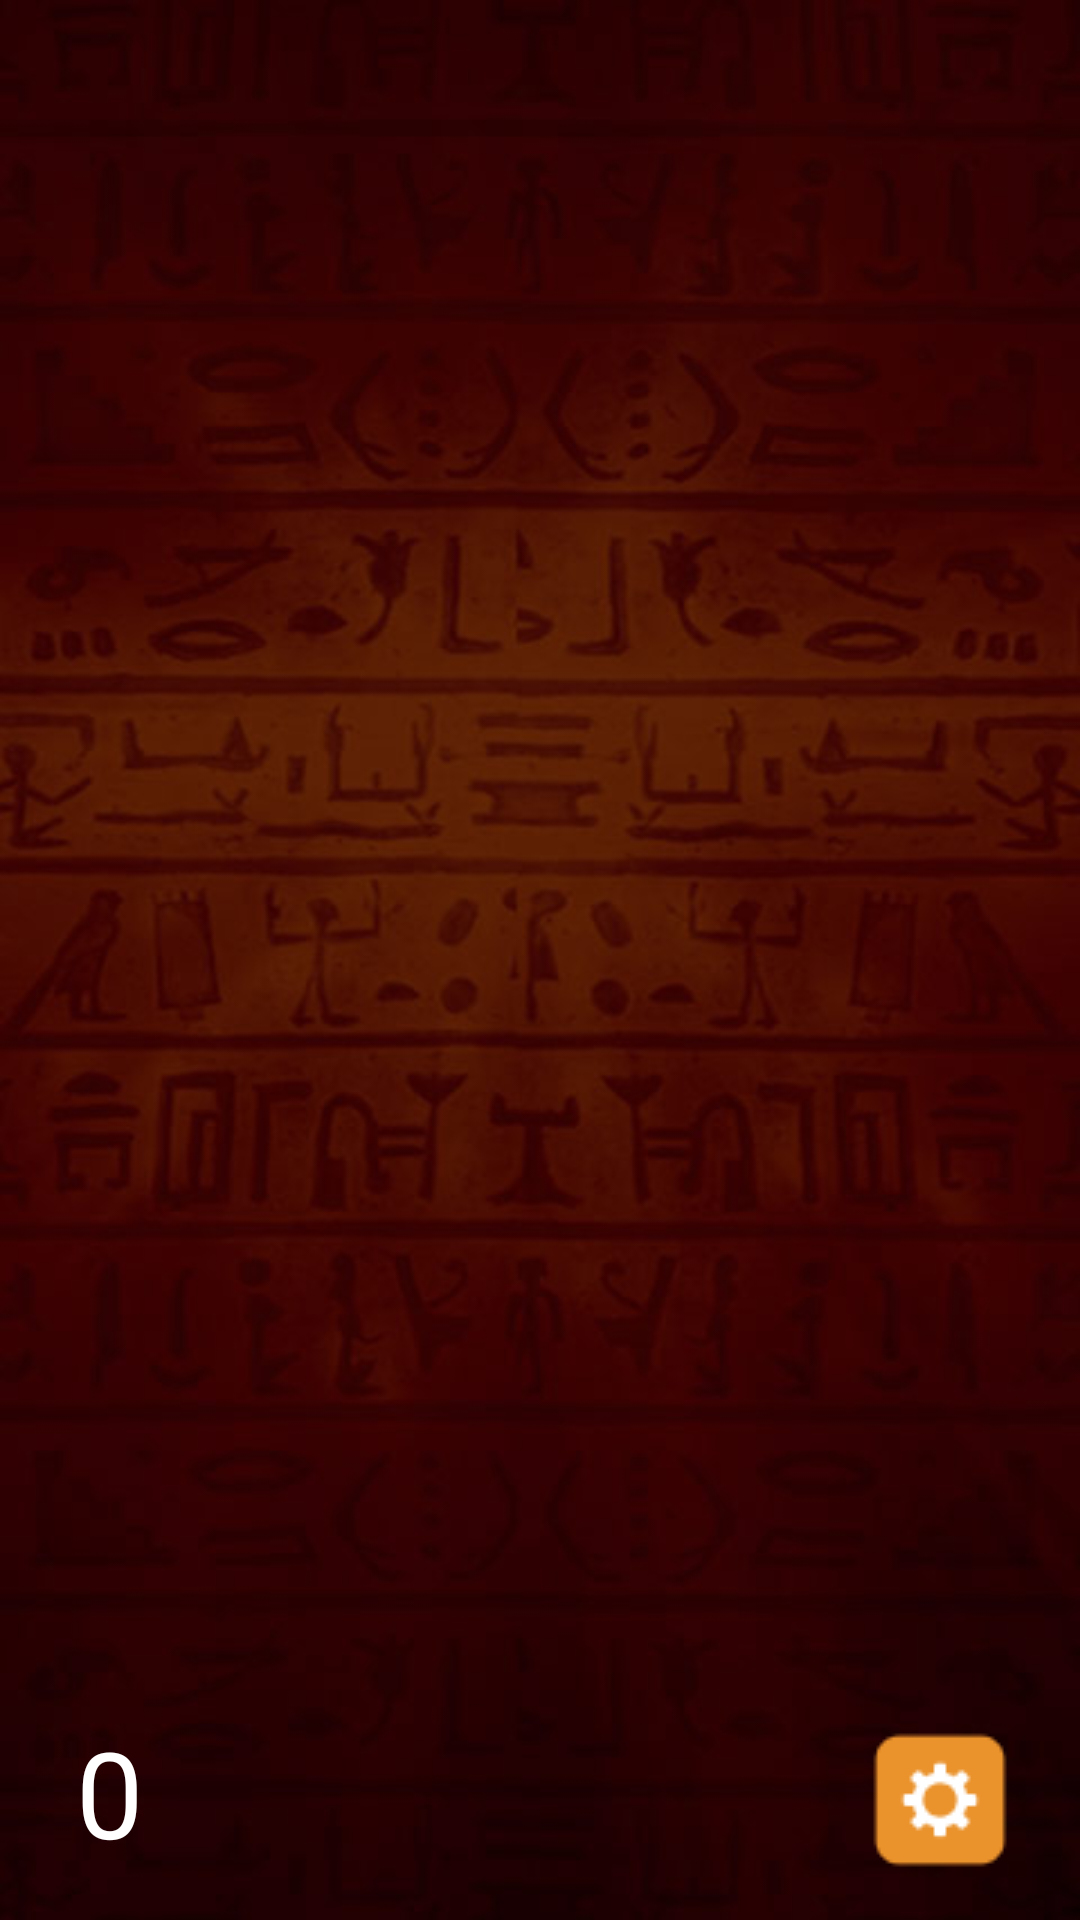

Where icons sit on this 1080×1920 app screen, as BBox(x1, y1, x2, y2):
optionsbutton: BBox(873, 1733, 1007, 1867)
